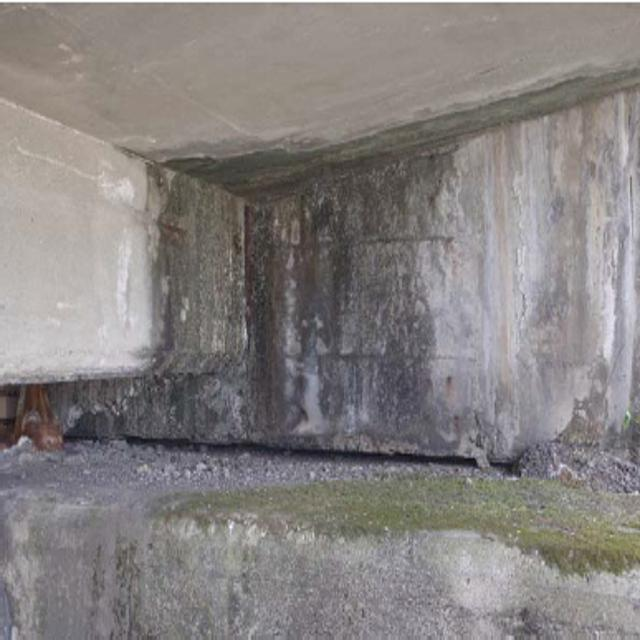leakage: (121, 142, 483, 464)
